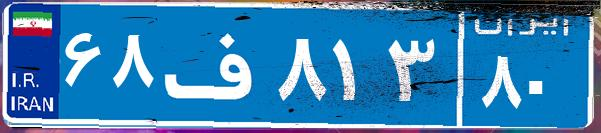0: (525, 38, 570, 115)
1: (330, 28, 385, 110)
3: (385, 28, 445, 110)
6: (57, 26, 110, 107)
8: (273, 28, 330, 110), (475, 38, 525, 113), (110, 28, 158, 105)
ف: (158, 15, 273, 115)
